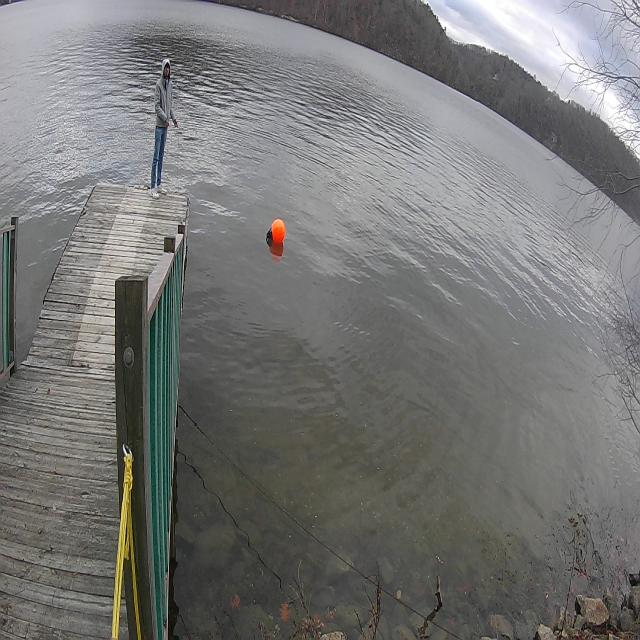Buoy: (268, 215, 288, 252)
